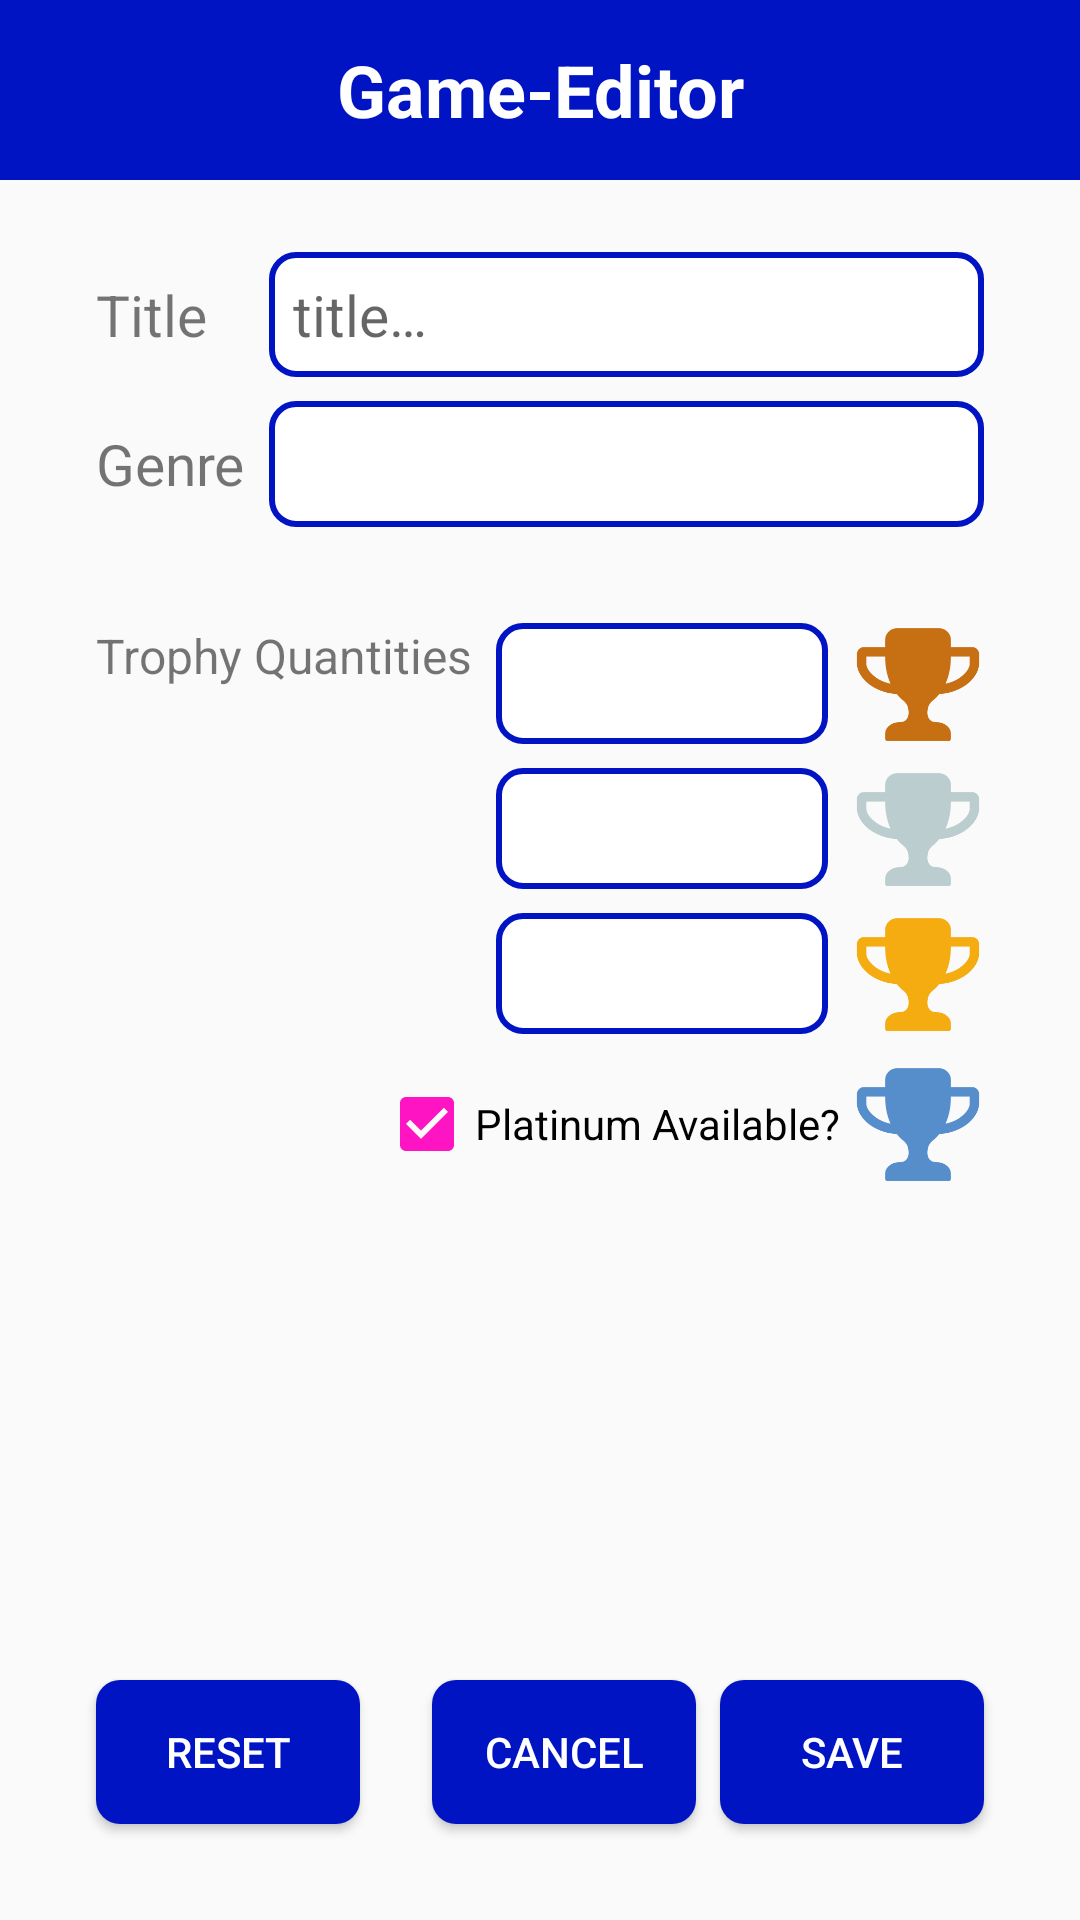

Named icons in this screenshot (1080 × 1920) and their centers, (x=x, y=y):
trophy bronze: (x=918, y=684)
trophy gold: (x=918, y=974)
trophy platinum: (x=918, y=1124)
trophy silver: (x=918, y=829)
